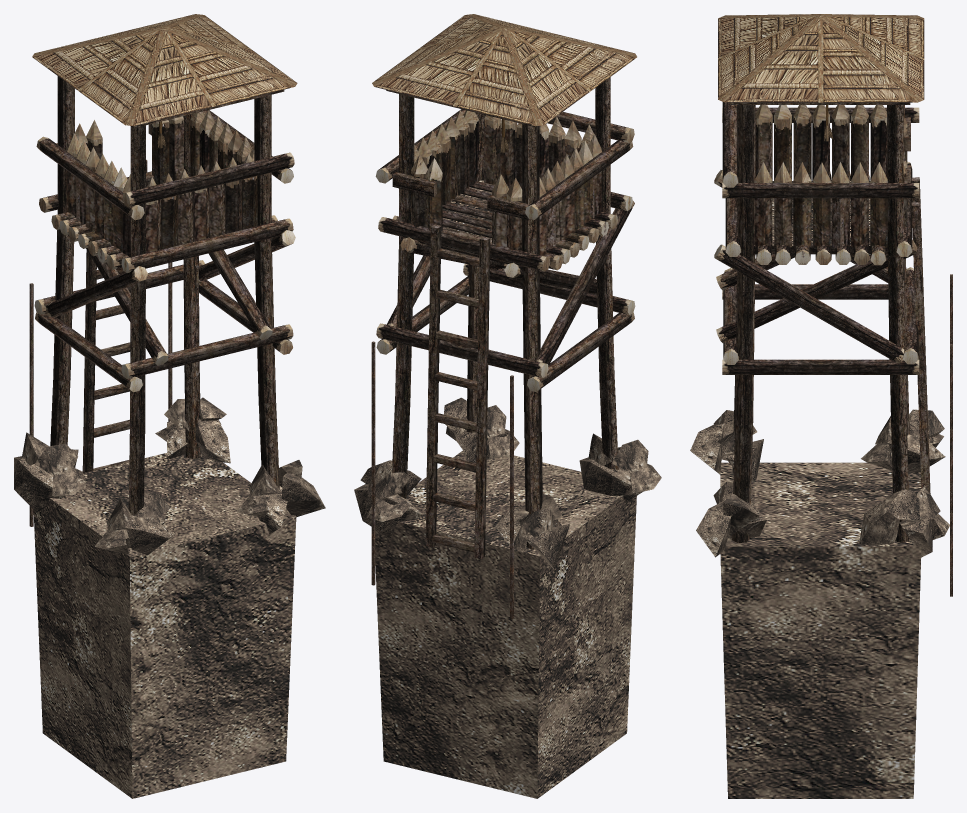
The model's file is s_persians_outpost.glb.
The picture shows the model from 3 angles, left to right: view 1: azimuth 30°, elevation 25°; view 2: azimuth 150°, elevation 25°; view 3: azimuth 270°, elevation 25°; orthographic projection. The views are drawn at different scales.
Visible parts, largest first — view 1: s_persians_outpost_part0; view 2: s_persians_outpost_part0; view 3: s_persians_outpost_part0.
Part boxes in pixels (<box>): s_persians_outpost_part0: <box>14,14,325,798</box>; s_persians_outpost_part0: <box>354,14,661,798</box>; s_persians_outpost_part0: <box>690,14,952,798</box>.
Size of the model in its own units: 2 by 6.24 by 2.
2 materials, 2 textured.
